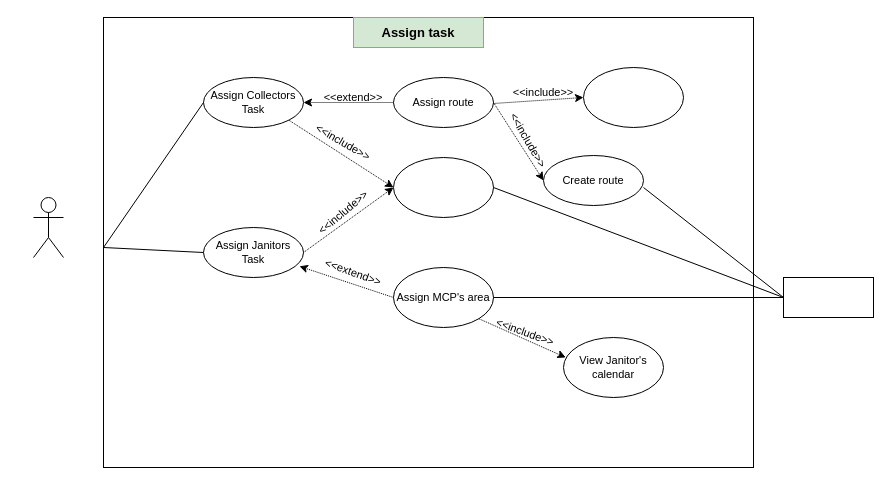
Image size: 891x485. Some labels were removed from this diagram. The shapes that lost their labels are listed below. From the top down, each one's centre as x and y in pixels, then its label:
At (x=633, y=97): "View Collector's calendar".
At (x=443, y=187): "View map".
At (x=48, y=227): "Back officers".
At (x=828, y=297): "<<actor>> Map system".
